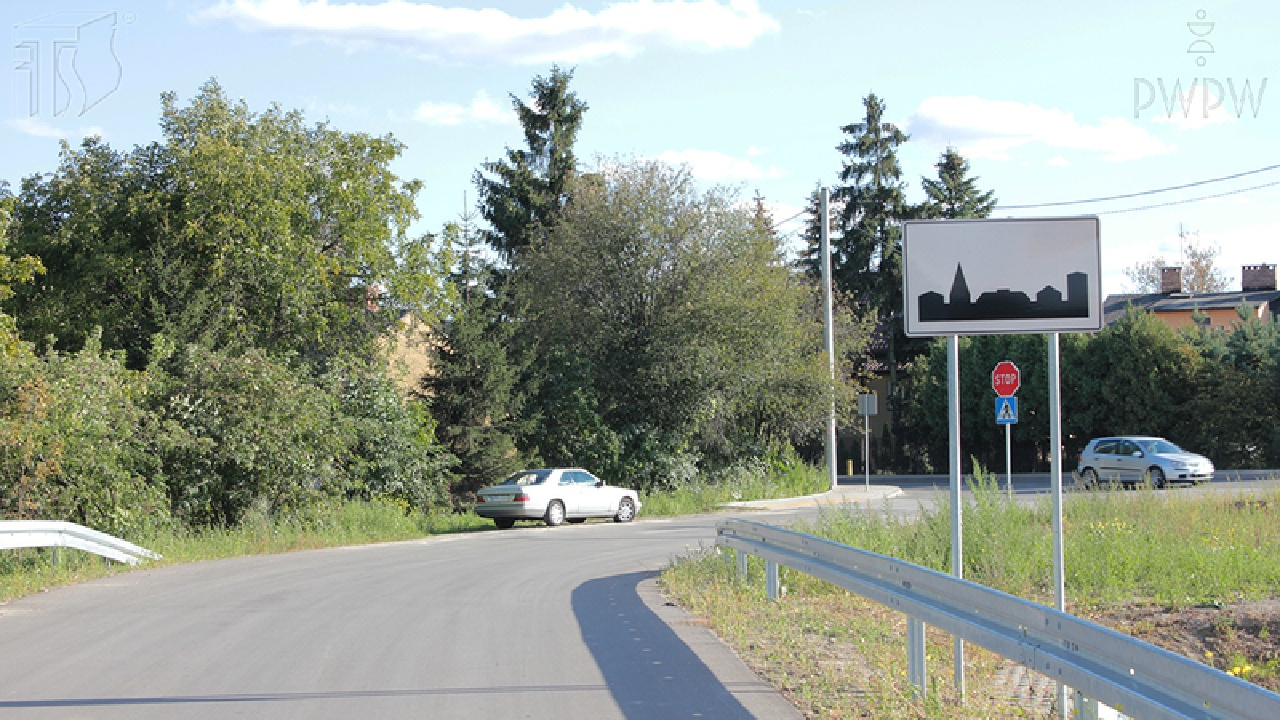B20: (992, 361, 1020, 397)
D42: (904, 219, 1105, 335)
D6: (995, 397, 1017, 423)
